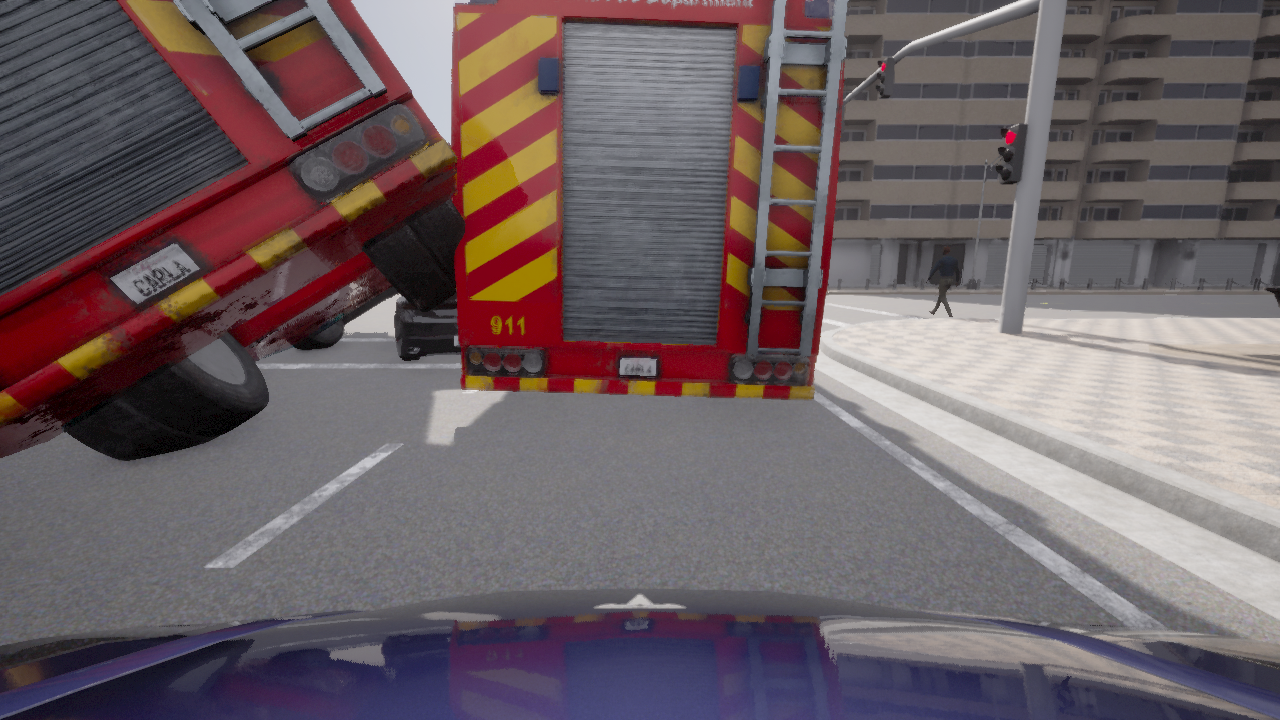cyclist: (0, 588, 1279, 719), (452, 0, 848, 399), (395, 293, 461, 361)
pedestrian: (924, 245, 960, 317)
